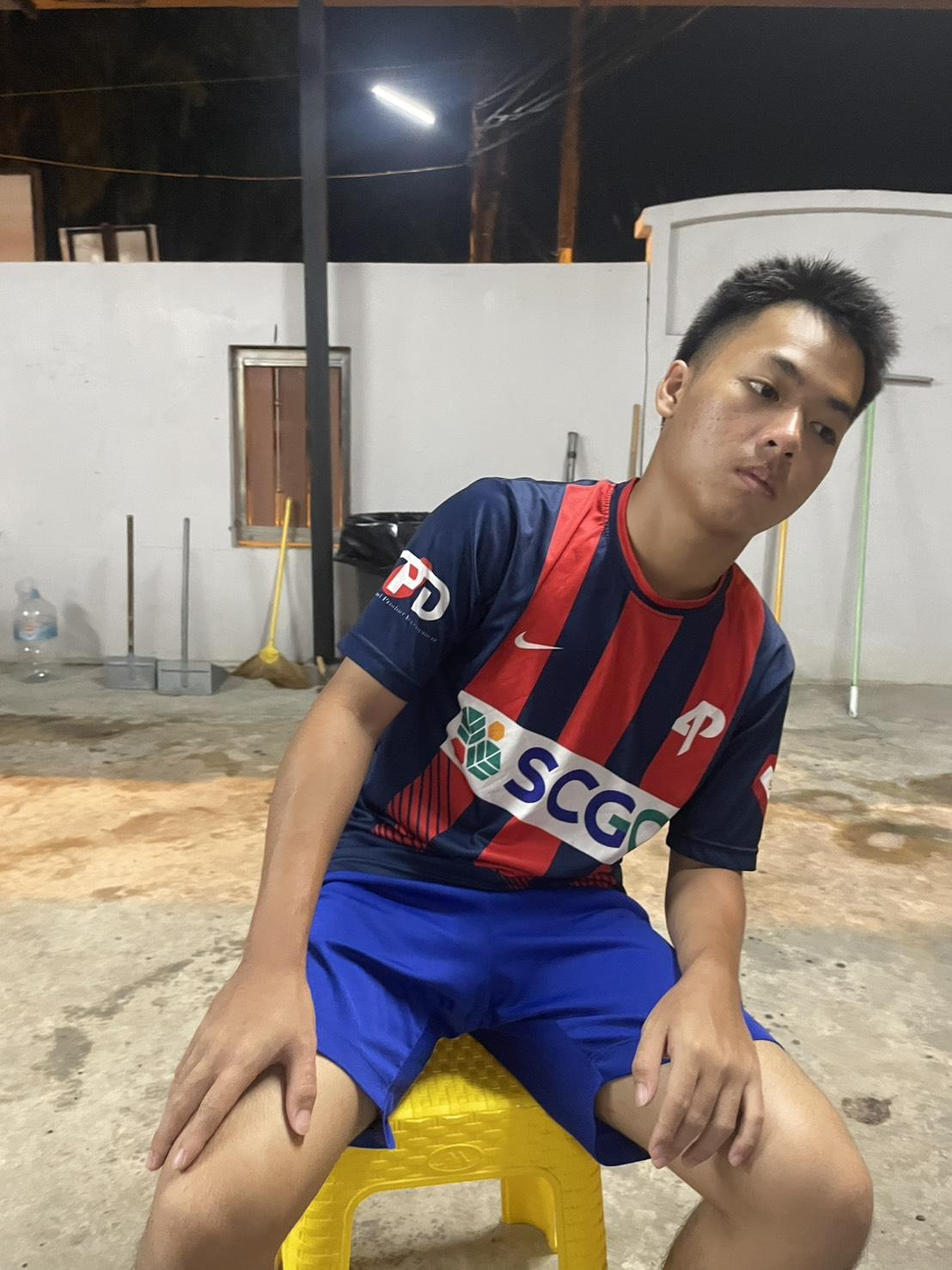BadPosture: (136, 258, 894, 1269)
